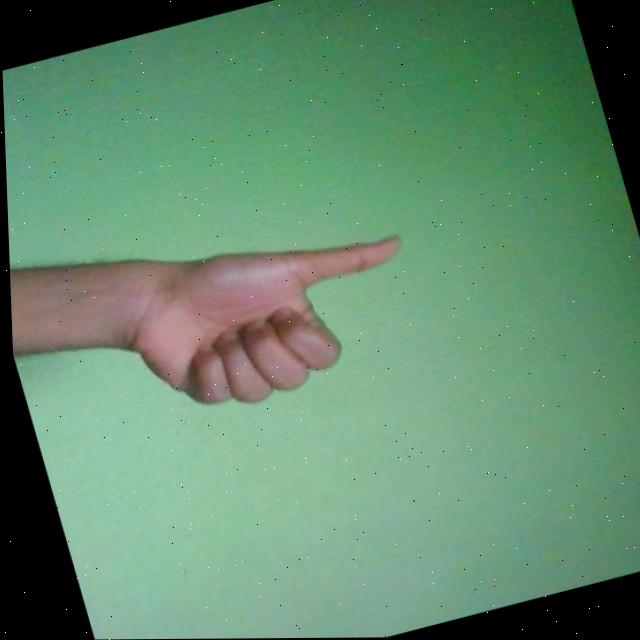Good Job: (104, 209, 436, 431)
